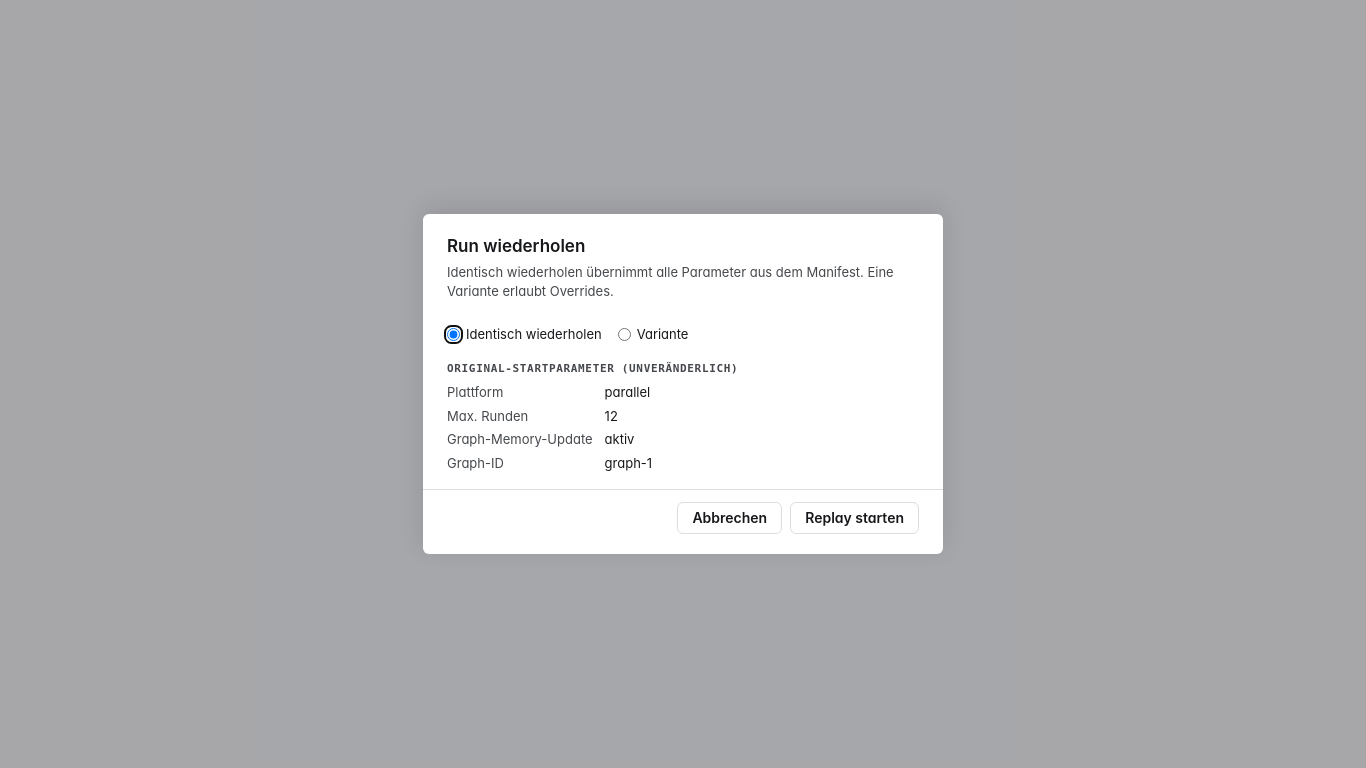
RunReplayDialog › zeigt "keine Abweichungen", wenn identisch repliziert wurde
The image size is (1366, 768).
Click the button "Replay starten" at x=855, y=518, box left=790, top=502, right=919, bottom=534
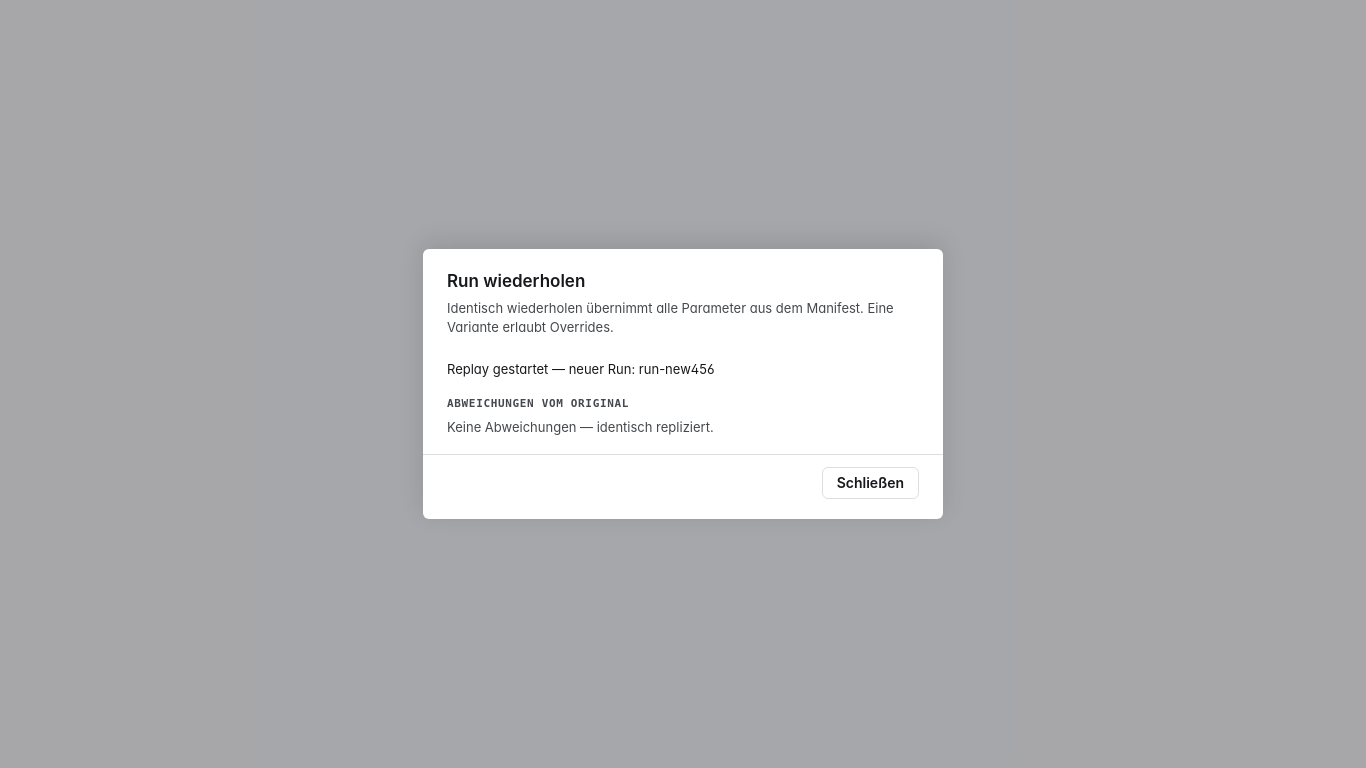
Check: the element with test id "deviations-list" shows "Keine Abweichungen — identisch repliziert.", box left=447, top=419, right=714, bottom=435
